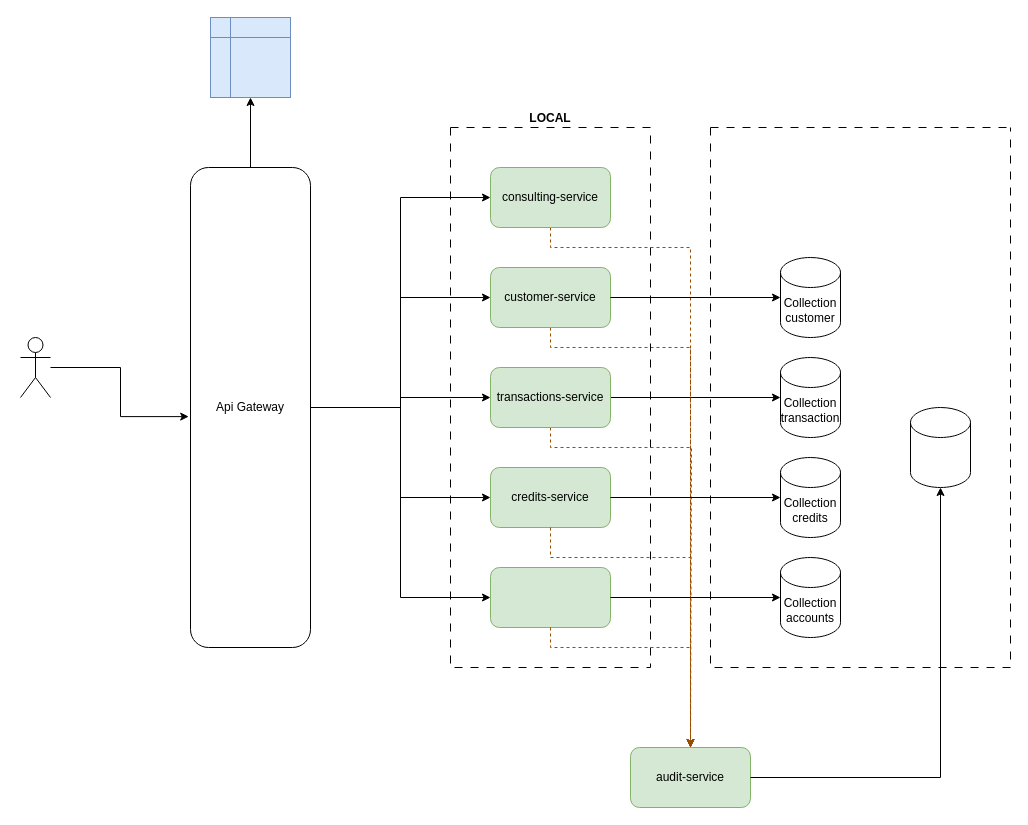
Some shapes in this 1028 by 825 pixel diagram are drawn without their labels. Each missing label, with the box of its shape:
accounts-service: (490, 566, 610, 628)
Cliente: (20, 336, 50, 398)
Collection traces: (910, 406, 970, 488)
Config Server: (210, 16, 290, 98)
MONDO DB ATLAS: (710, 126, 1010, 668)
